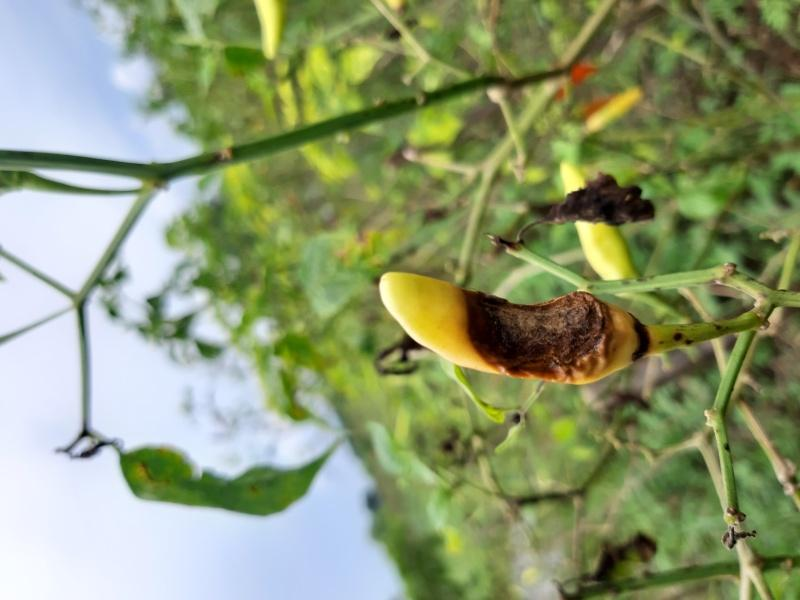antraknosa: (379, 268, 636, 386)
